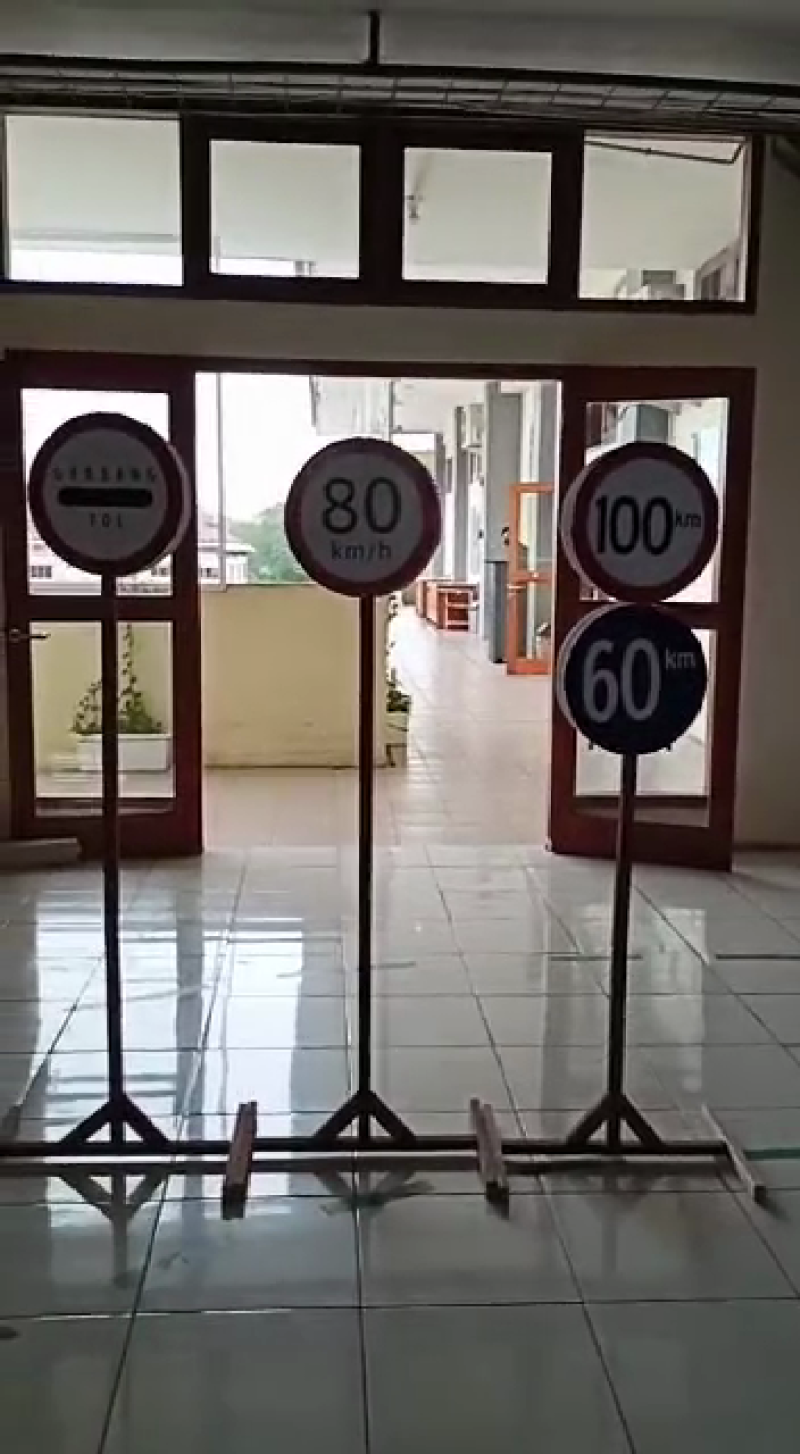batas maksimal 100kmperjam minimal 60kmperjam: (555, 437, 722, 748)
batas maksimal 80kmperjam: (281, 427, 450, 605)
gerbang tol: (24, 407, 196, 579)
